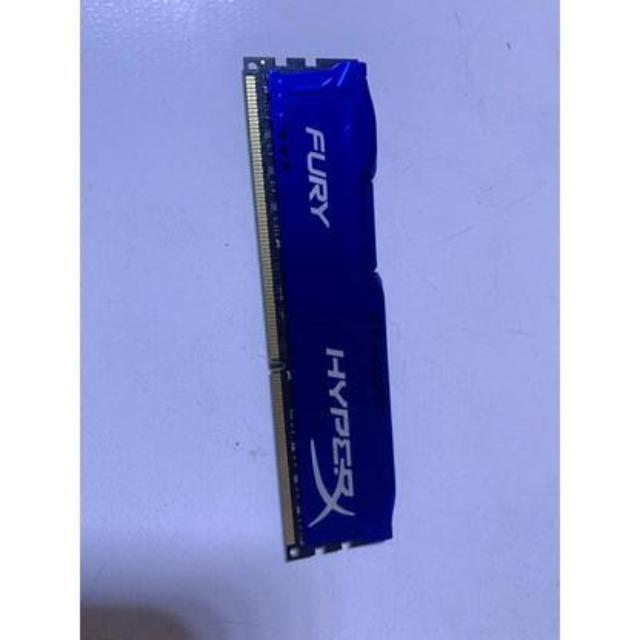RAM: (234, 50, 408, 564)
